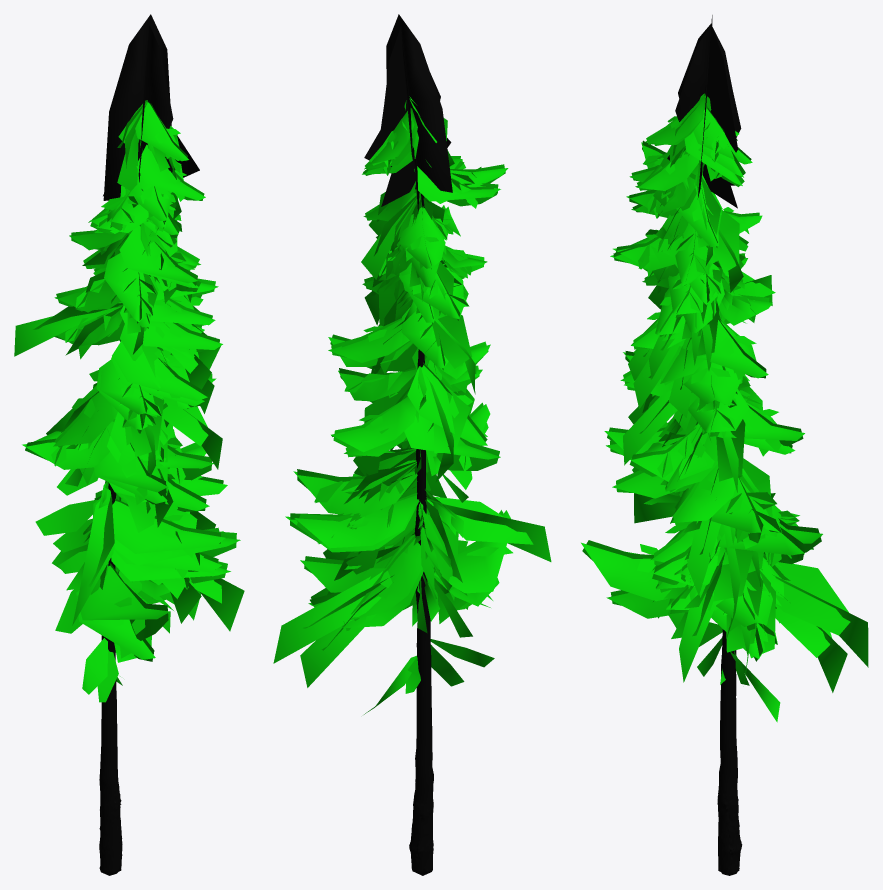
The model's file is pine_004_4.FBX.
The picture shows the model from 3 angles, left to right: view 1: azimuth 30°, elevation 25°; view 2: azimuth 150°, elevation 25°; view 3: azimuth 270°, elevation 25°; orthographic projection. The views are drawn at different scales.
Parts seen in each view (by area): view 1: pine_004_04_LOD0; view 2: pine_004_04_LOD0; view 3: pine_004_04_LOD0.
Boxes of the visible parts, box(x1,y1,x2,y2) form: pine_004_04_LOD0: box(14, 14, 244, 875); pine_004_04_LOD0: box(273, 14, 551, 875); pine_004_04_LOD0: box(581, 15, 868, 875).
Size of what is drawn, in the model's own units: 279 by 1147 by 341.
